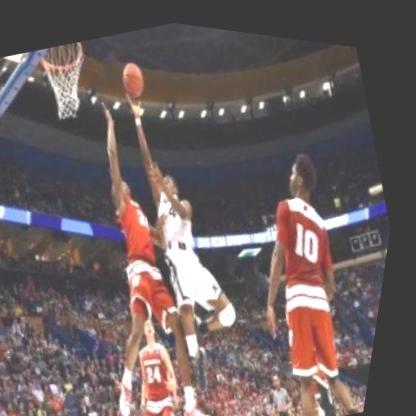basketball: (115, 50, 155, 101)
